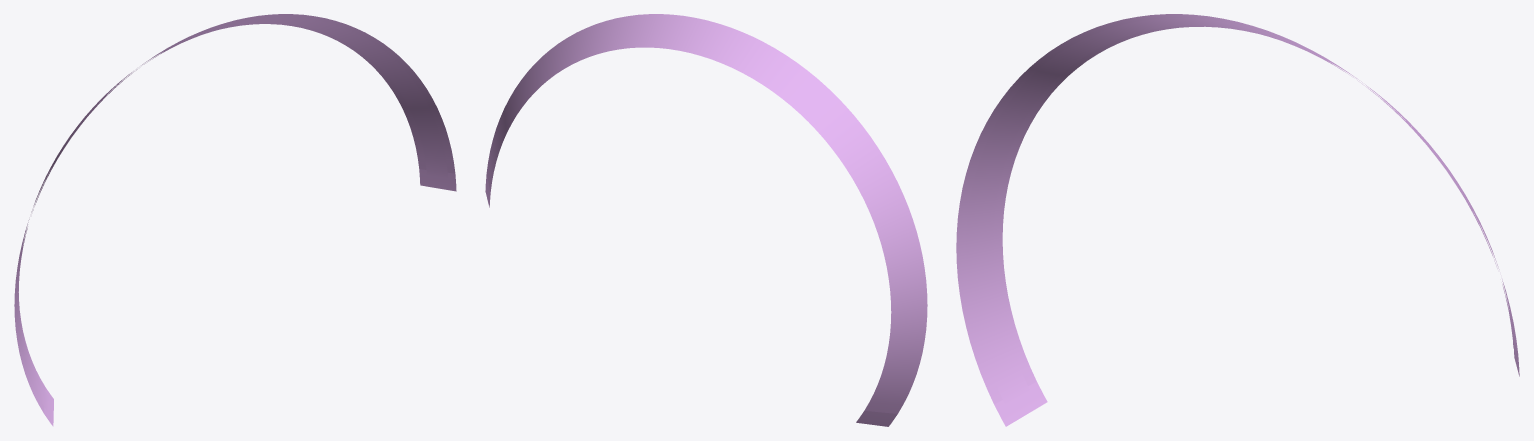
Rendered from Mesh_Note_36.fbx.
3 views of the same model, side by side, from view 1: azimuth 30°, elevation 25°; view 2: azimuth 150°, elevation 25°; view 3: azimuth 330°, elevation 25° (orthographic). The views are drawn at different scales.
Visible parts, largest first — view 1: Mesh_Note_36; view 2: Mesh_Note_36; view 3: Mesh_Note_36.
Boxes of the visible parts, box(x1,y1,x2,y2) form: Mesh_Note_36: box(14, 14, 456, 426); Mesh_Note_36: box(485, 14, 927, 426); Mesh_Note_36: box(956, 14, 1519, 426).
Size of the model in its own units: 3.56 by 2.79 by 0.2235.
